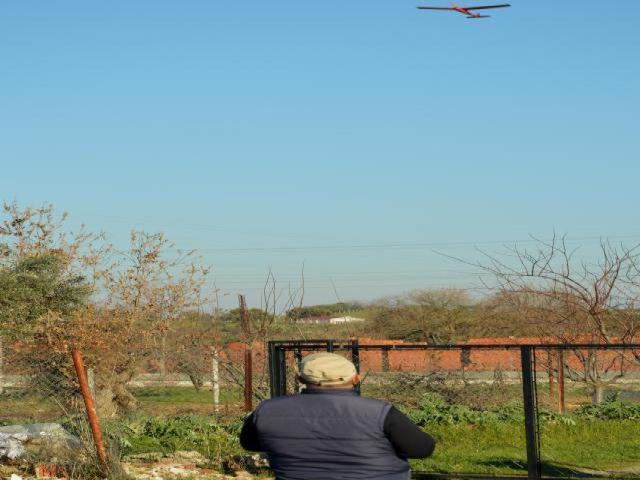iha: (416, 2, 516, 21)
